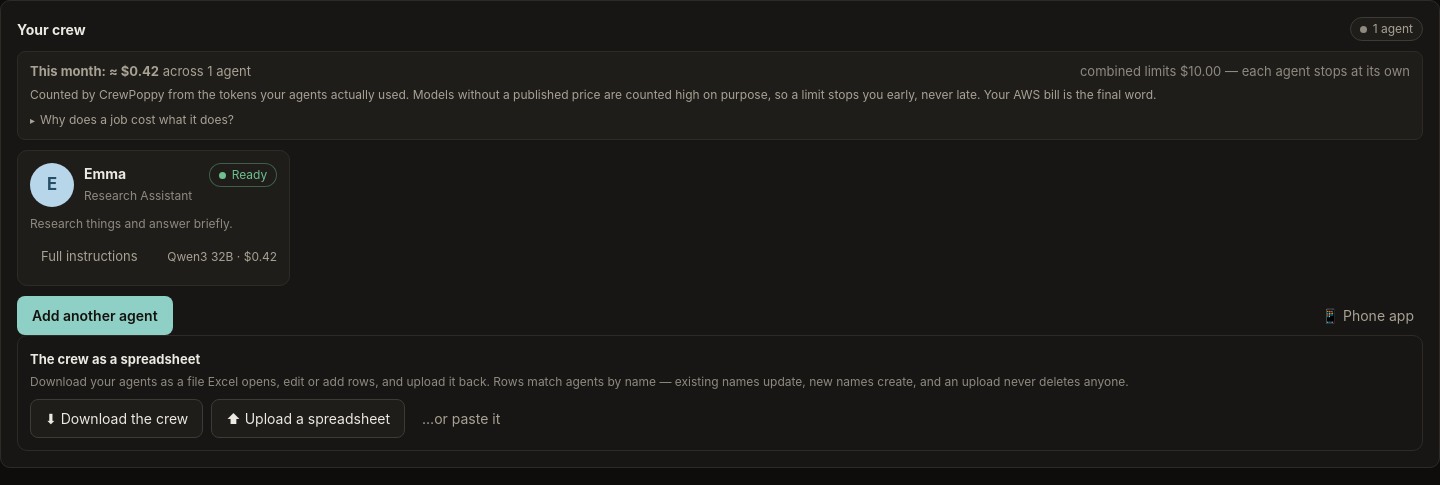
Test case: the crew grid › shows the tile essentials — name, role, and the brief, clamped but expandable
The width and height of the screenshot is (1440, 485).
Expected: the button with aria-label "open emma" shows "Emma", x1=17 y1=150 x2=290 y2=286
Expected: the button with aria-label "open emma" shows "Research Assistant", x1=17 y1=150 x2=290 y2=286
# Expanding reads in place, without leaving the grid.
Click the button "Full instructions" at (89, 257), box x1=30 y1=241 x2=149 y2=272
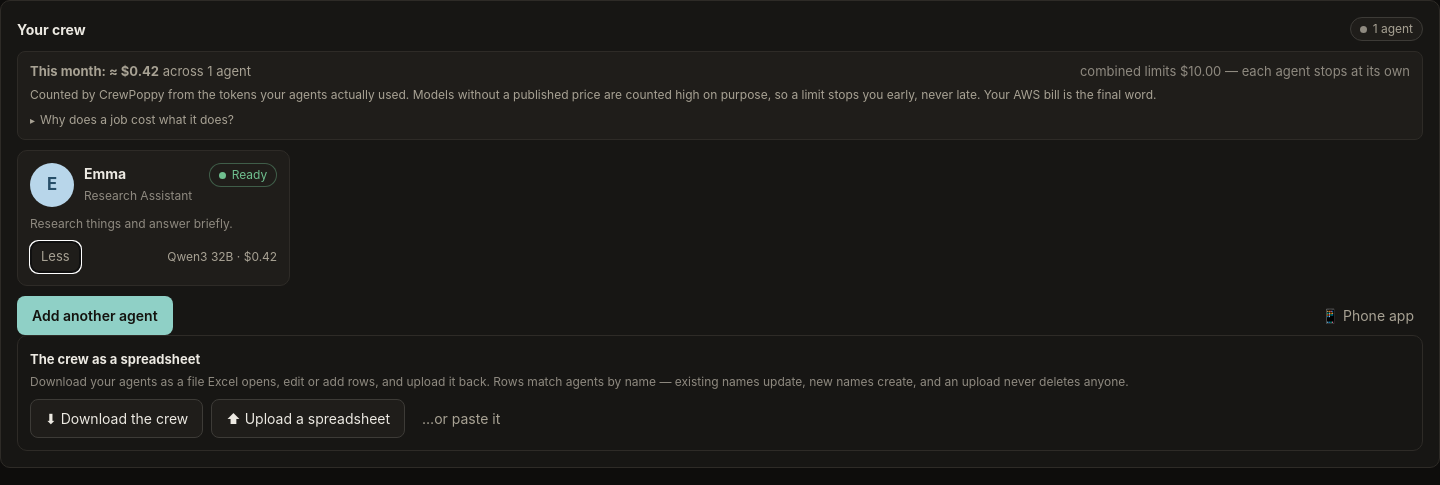
Now the button "Less" is shown, box x1=30 y1=241 x2=81 y2=272
